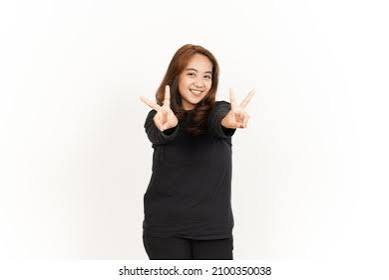peace_sign: (139, 83, 179, 133), (224, 82, 255, 131)
